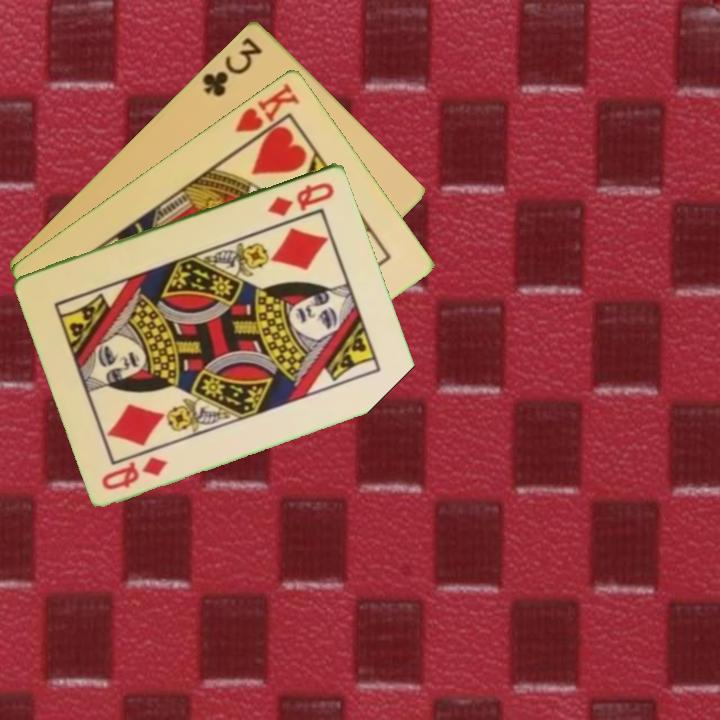3c: (198, 32, 265, 99)
Kh: (231, 79, 303, 149)
Qd: (264, 178, 338, 219), (98, 452, 171, 493)
